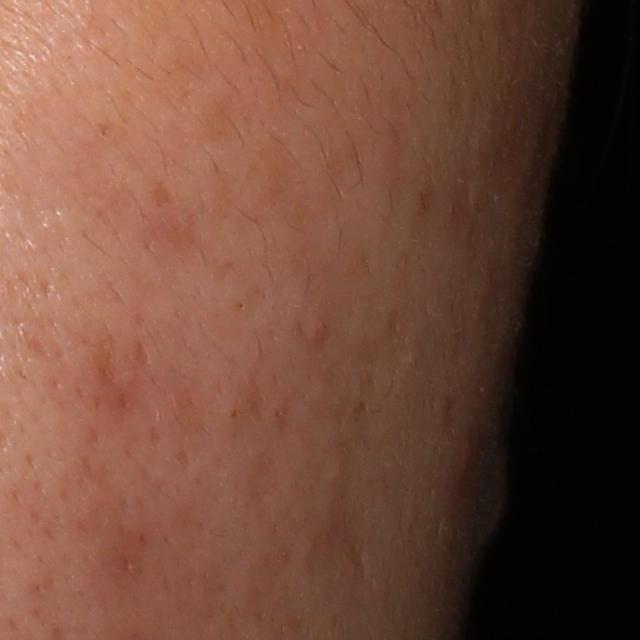papule: (454, 428, 484, 503), (308, 320, 327, 343)
